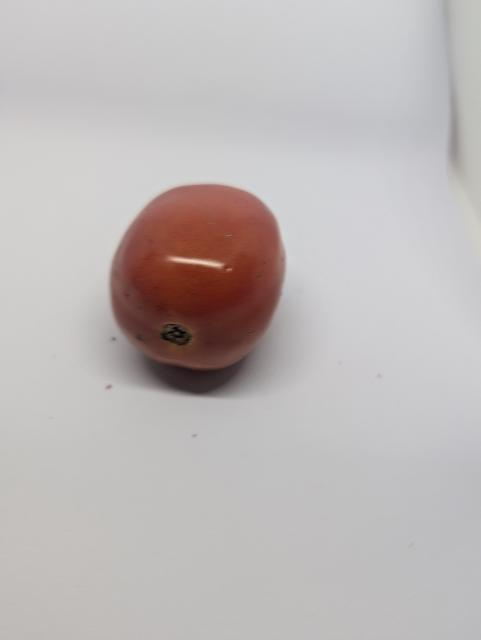red: (106, 181, 290, 375)
